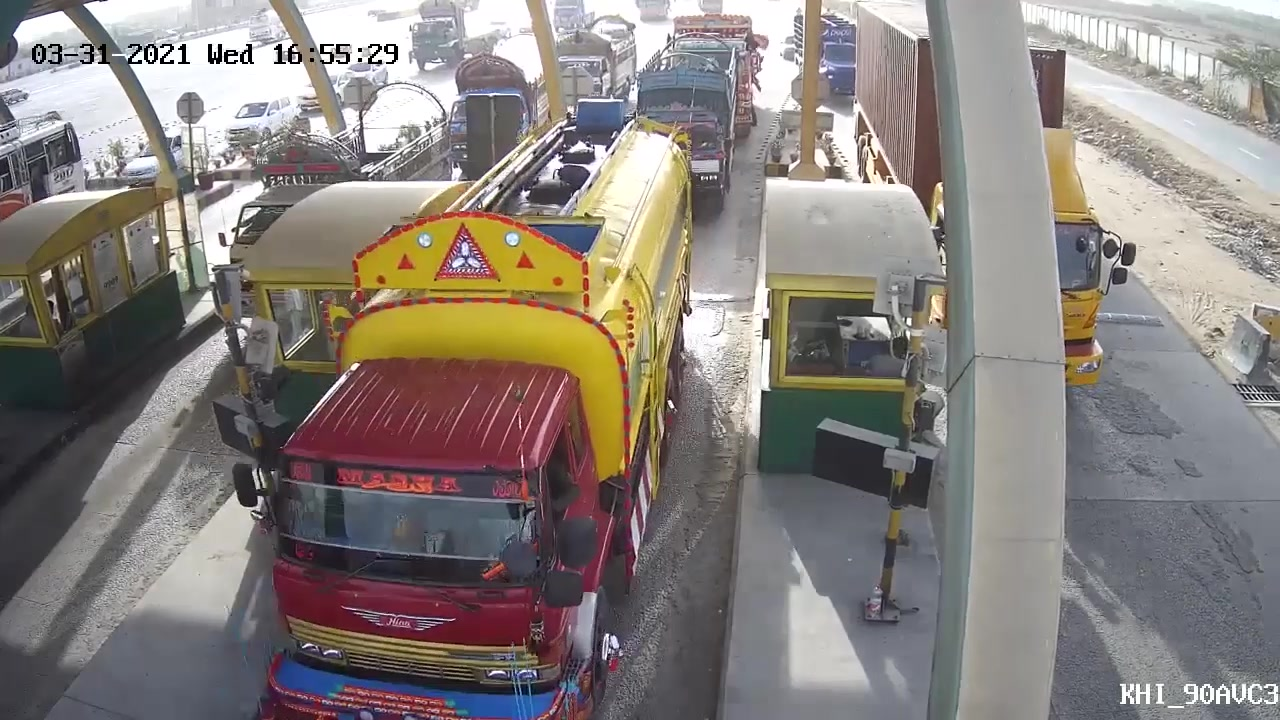F6: (270, 103, 704, 720)
